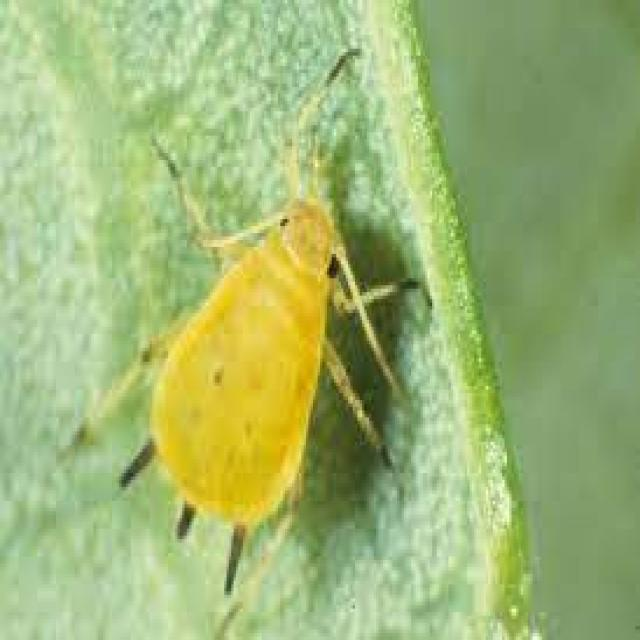Aphids: (94, 43, 488, 599)
